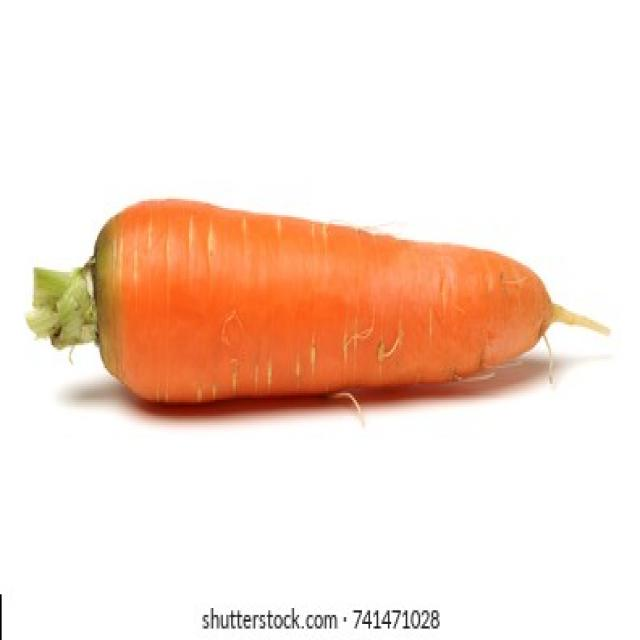Carrot: (95, 200, 620, 407)
